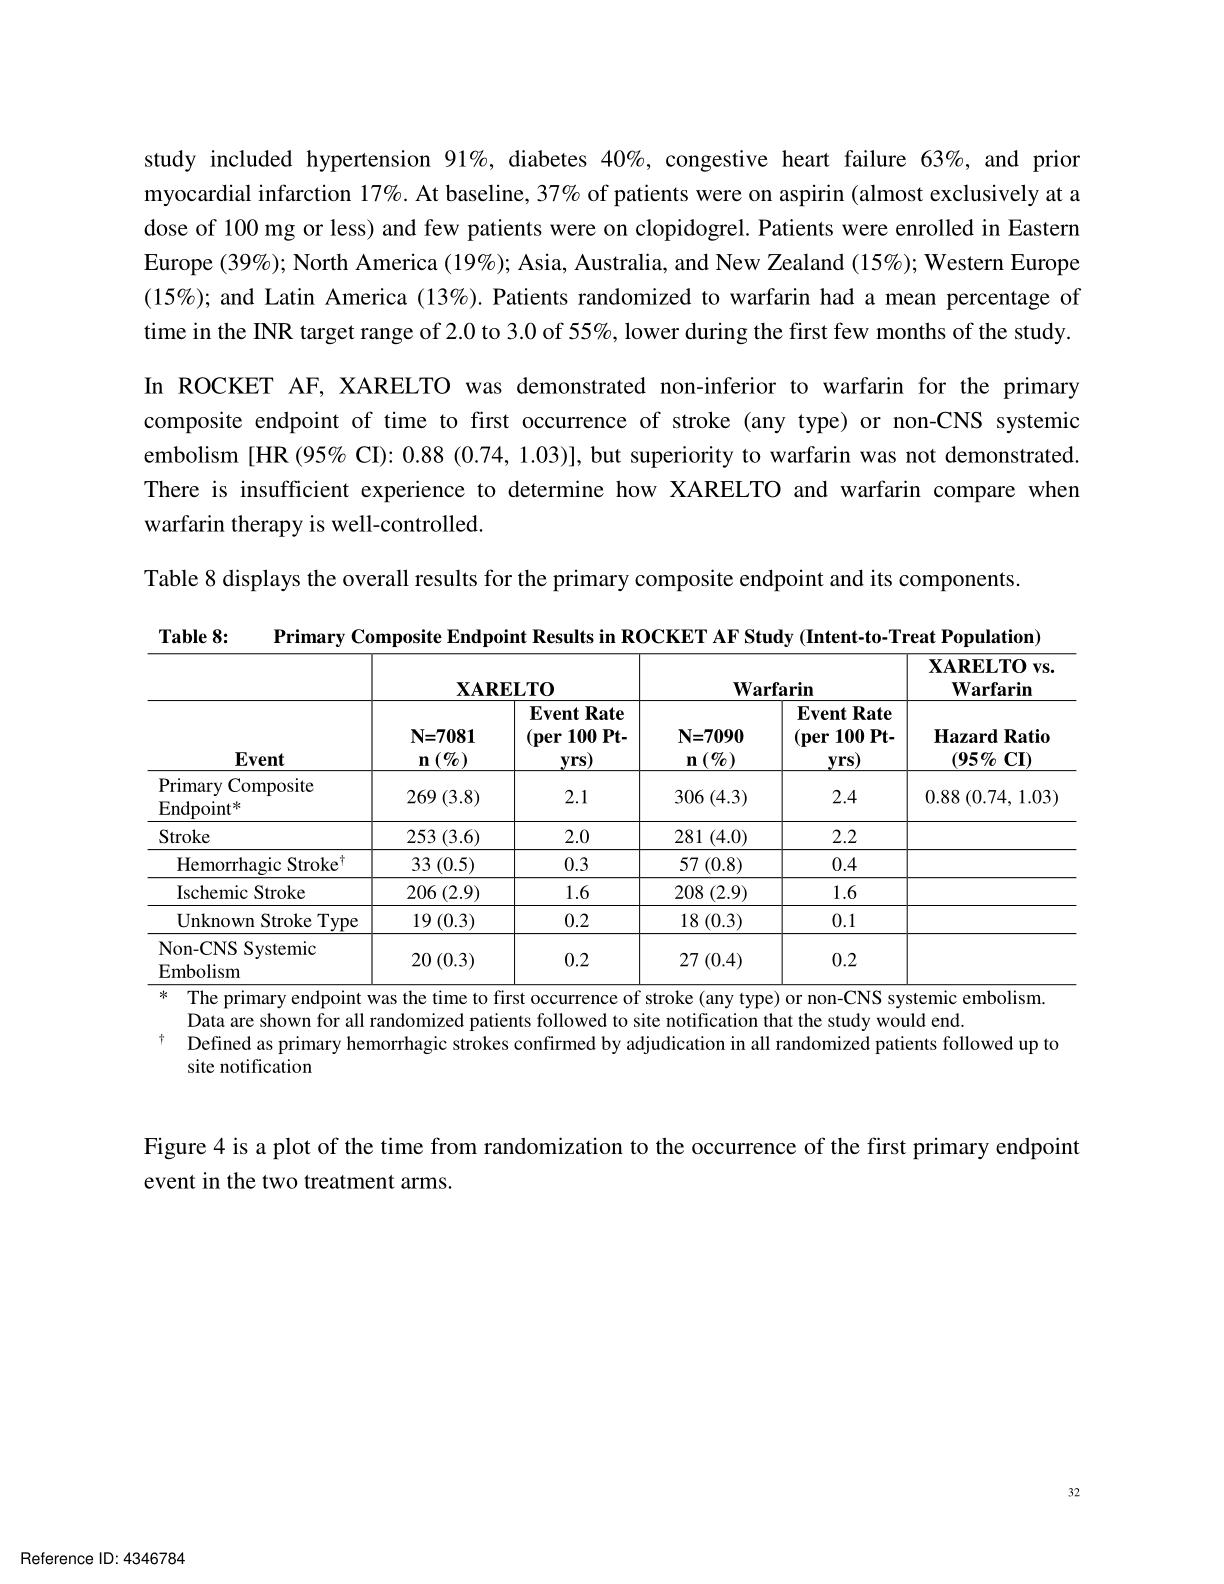partial_lined_merged_cells: (147, 652, 1077, 987)
